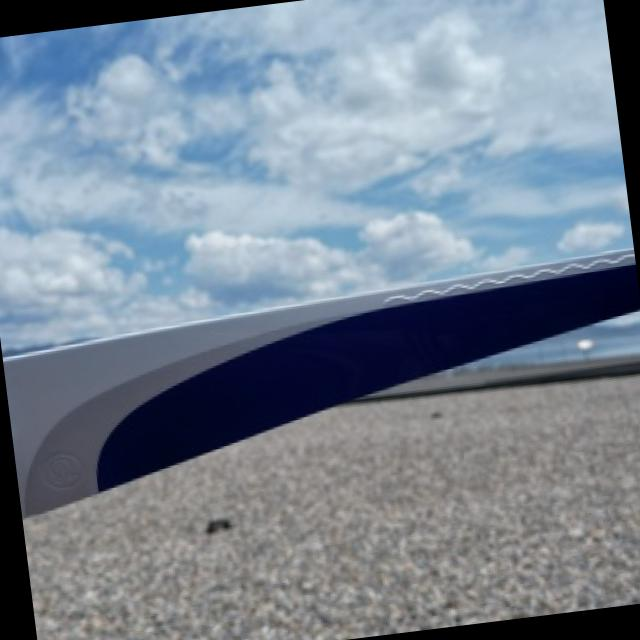healthy: (5, 247, 640, 511)
